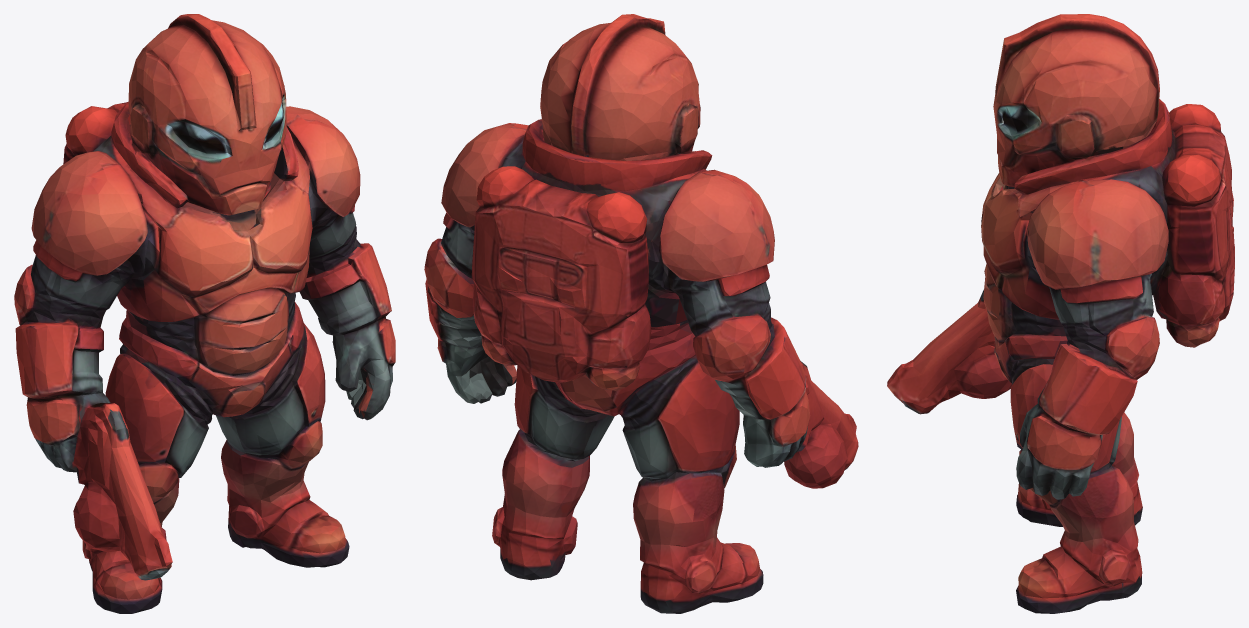
3 views of the same model, side by side, from view 1: azimuth 30°, elevation 25°; view 2: azimuth 150°, elevation 25°; view 3: azimuth 270°, elevation 25° (orthographic). The views are drawn at different scales.
Parts seen in each view (by area): view 1: figure; view 2: figure; view 3: figure.
Part boxes in pixels (x1,y1,x2,y2): figure: (14, 14, 395, 613); figure: (424, 14, 858, 613); figure: (887, 14, 1234, 613).
Bounding box in the file's own units: 0.8213 × 1.2 × 0.6995.
1 material, 1 textured.
